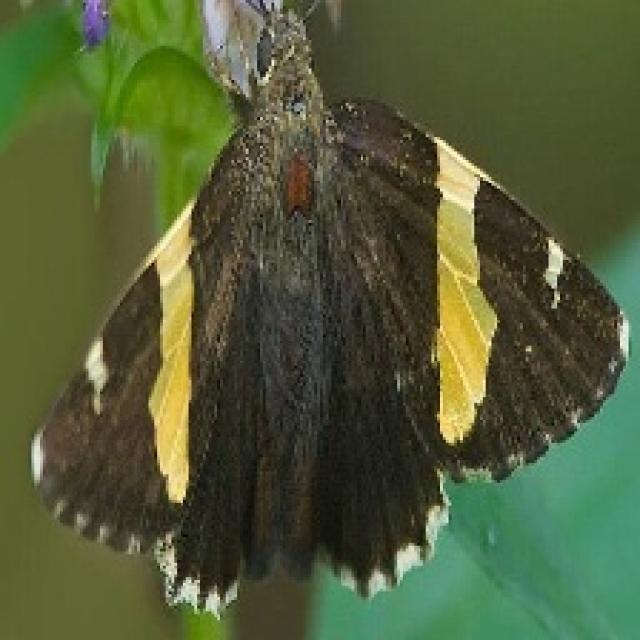butterfly: (26, 0, 628, 620)
